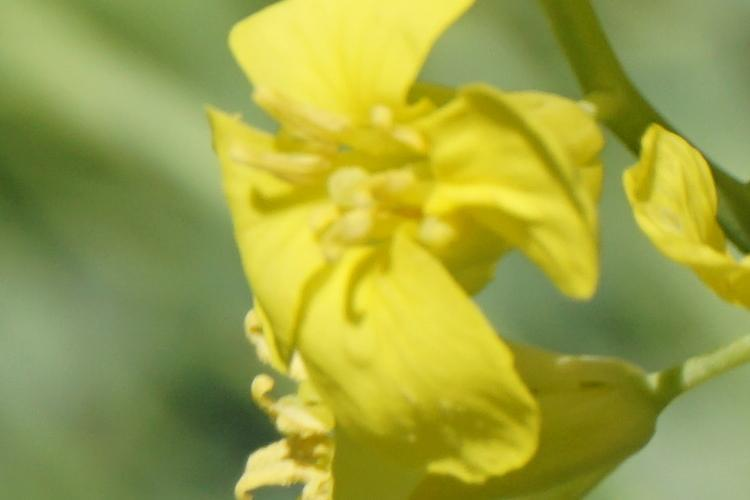yellow: (220, 38, 589, 457), (254, 308, 662, 492), (636, 136, 740, 299)
